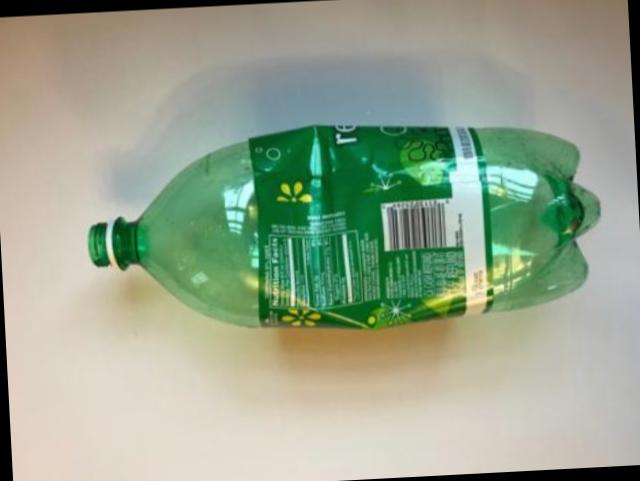plastic: (85, 123, 595, 326)
